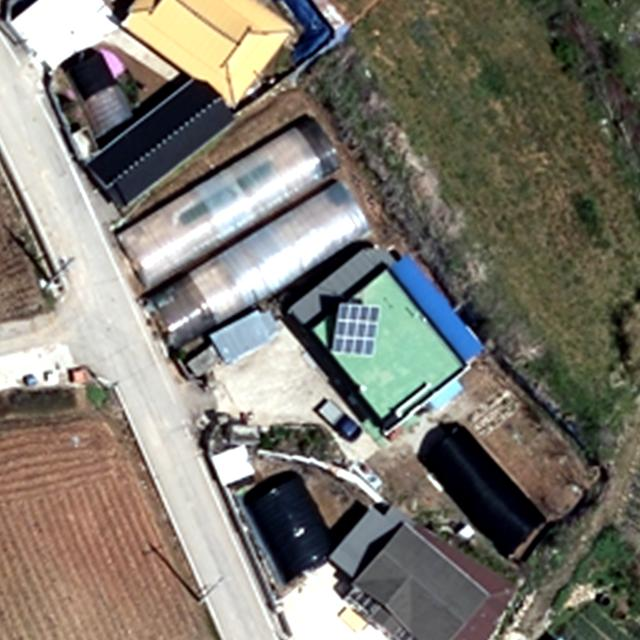solarpanel: (327, 300, 381, 358)
